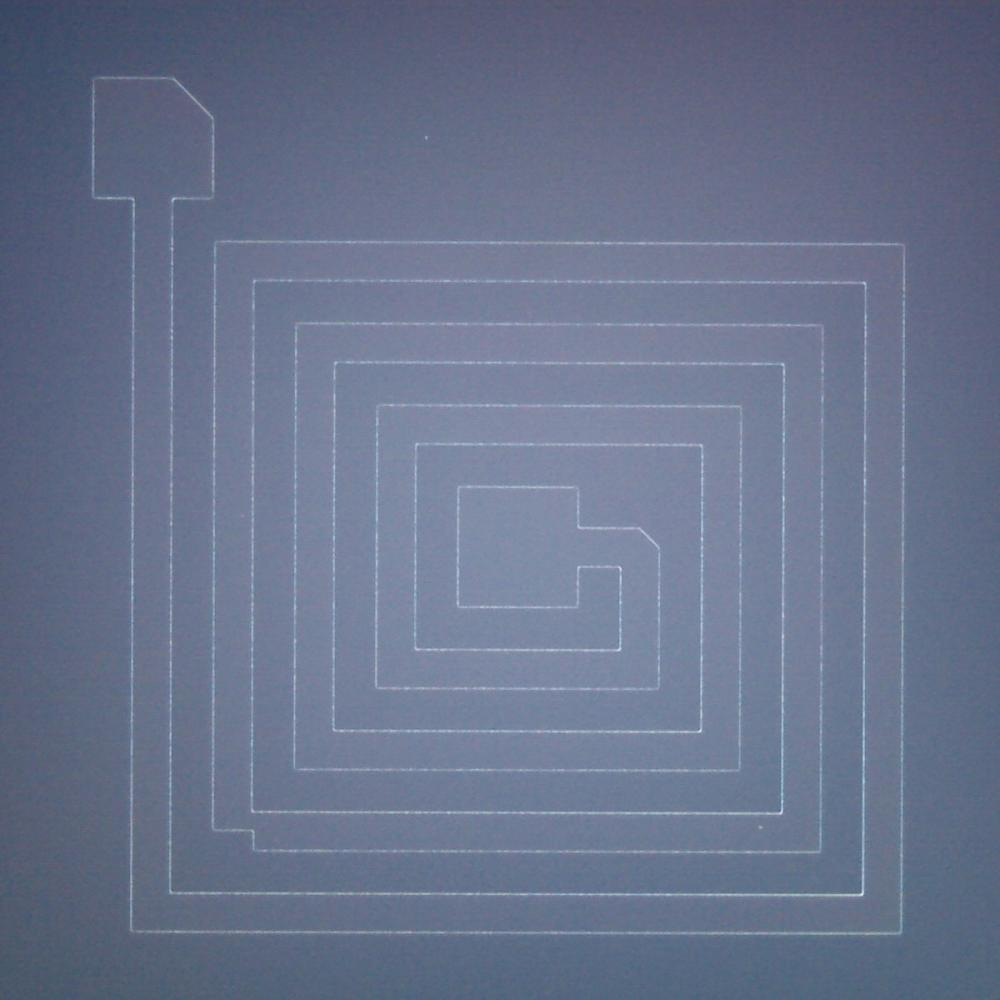edge circuit: (169, 62, 226, 126), (202, 818, 272, 862), (631, 513, 674, 560)
